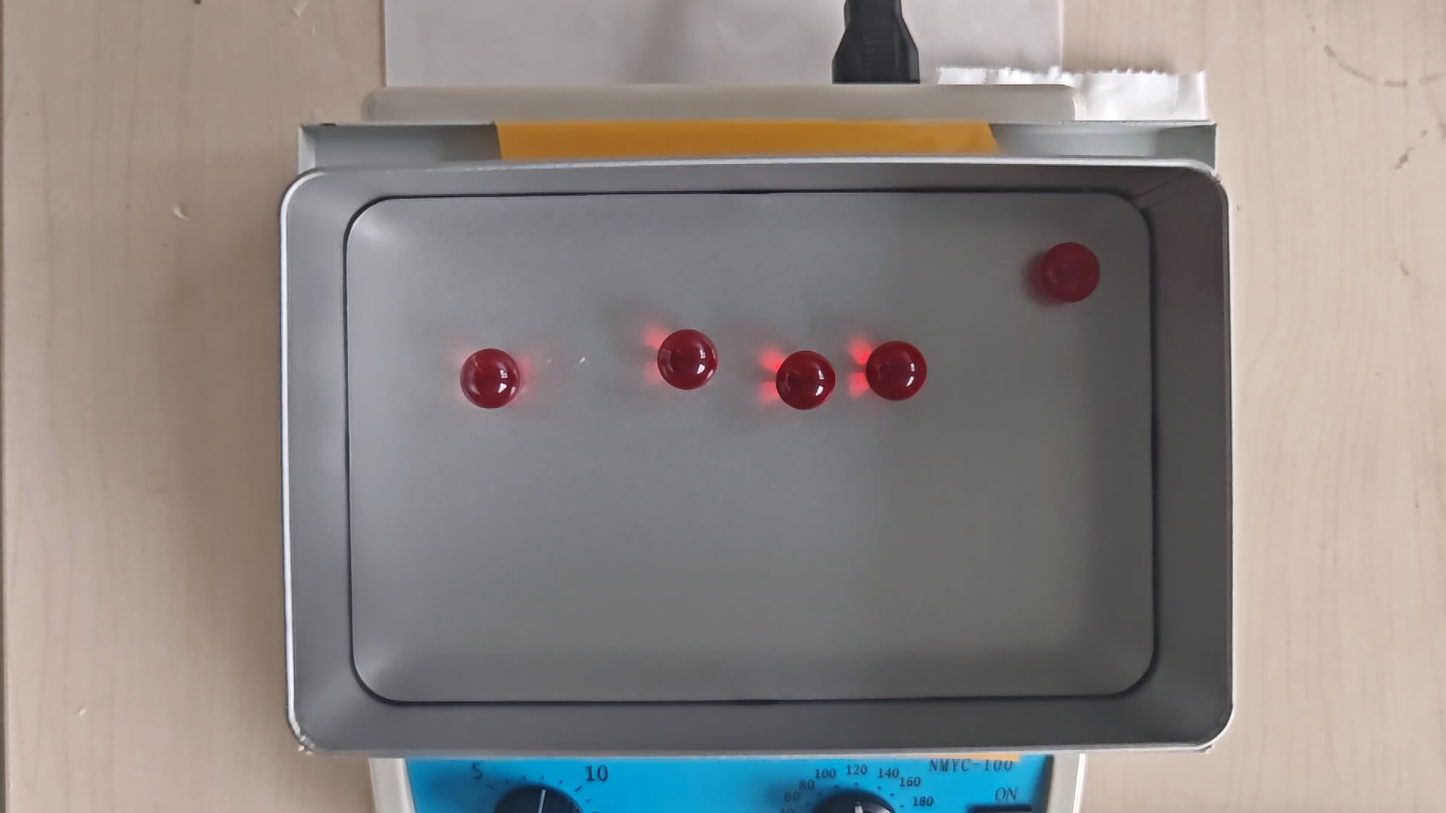ball: (656, 330, 718, 393), (459, 348, 520, 410), (776, 349, 836, 411), (1039, 242, 1098, 302), (867, 341, 926, 400)
container: (340, 186, 1160, 705)
